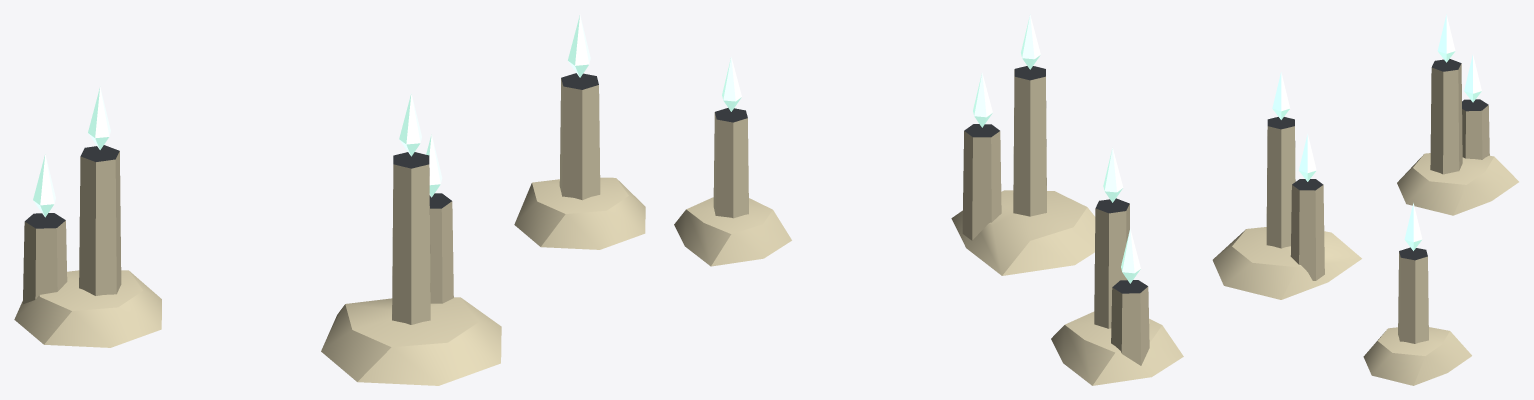
File: FloatingCandles.fbx
The picture shows the model from 3 angles, left to right: view 1: azimuth 30°, elevation 25°; view 2: azimuth 150°, elevation 25°; view 3: azimuth 270°, elevation 25°; orthographic projection. The views are drawn at different scales.
Parts seen in each view (by area): view 1: FloatingCandles; view 2: FloatingCandles; view 3: FloatingCandles.
Boxes of the visible parts, bbox=[...] form: FloatingCandles: bbox=[14, 14, 645, 385]; FloatingCandles: bbox=[674, 14, 1183, 385]; FloatingCandles: bbox=[1212, 14, 1518, 385].
Size of the model in its own units: 0.7891 by 0.3256 by 0.4645.
